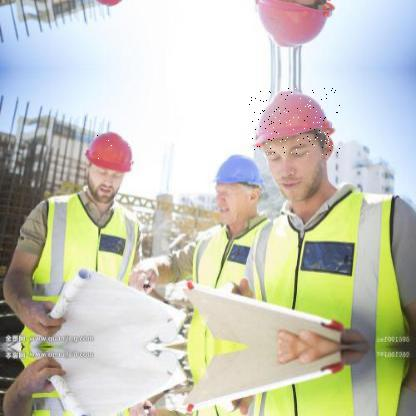safetyhelmet: (248, 88, 341, 156), (77, 128, 138, 178), (210, 152, 267, 198)
